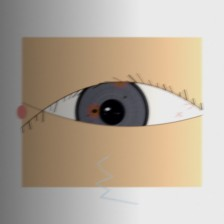foreign_body_visible: (103, 66, 137, 93)
